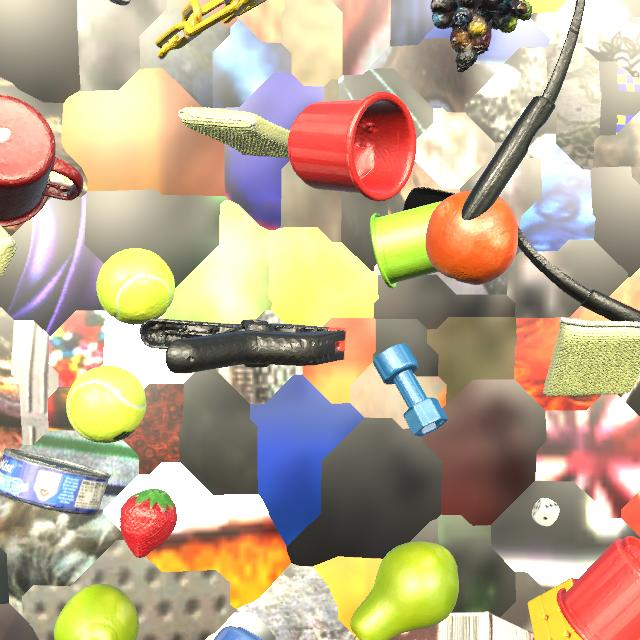ycb_007_tuna_fish_can: (0, 448, 111, 516)
ycb_008_pudding_box: (390, 611, 534, 640)
ycb_012_strawberry: (120, 489, 177, 558)
ycb_016_pear: (350, 541, 459, 640), (54, 584, 139, 640)
ycb_017_orange: (425, 190, 518, 285)
